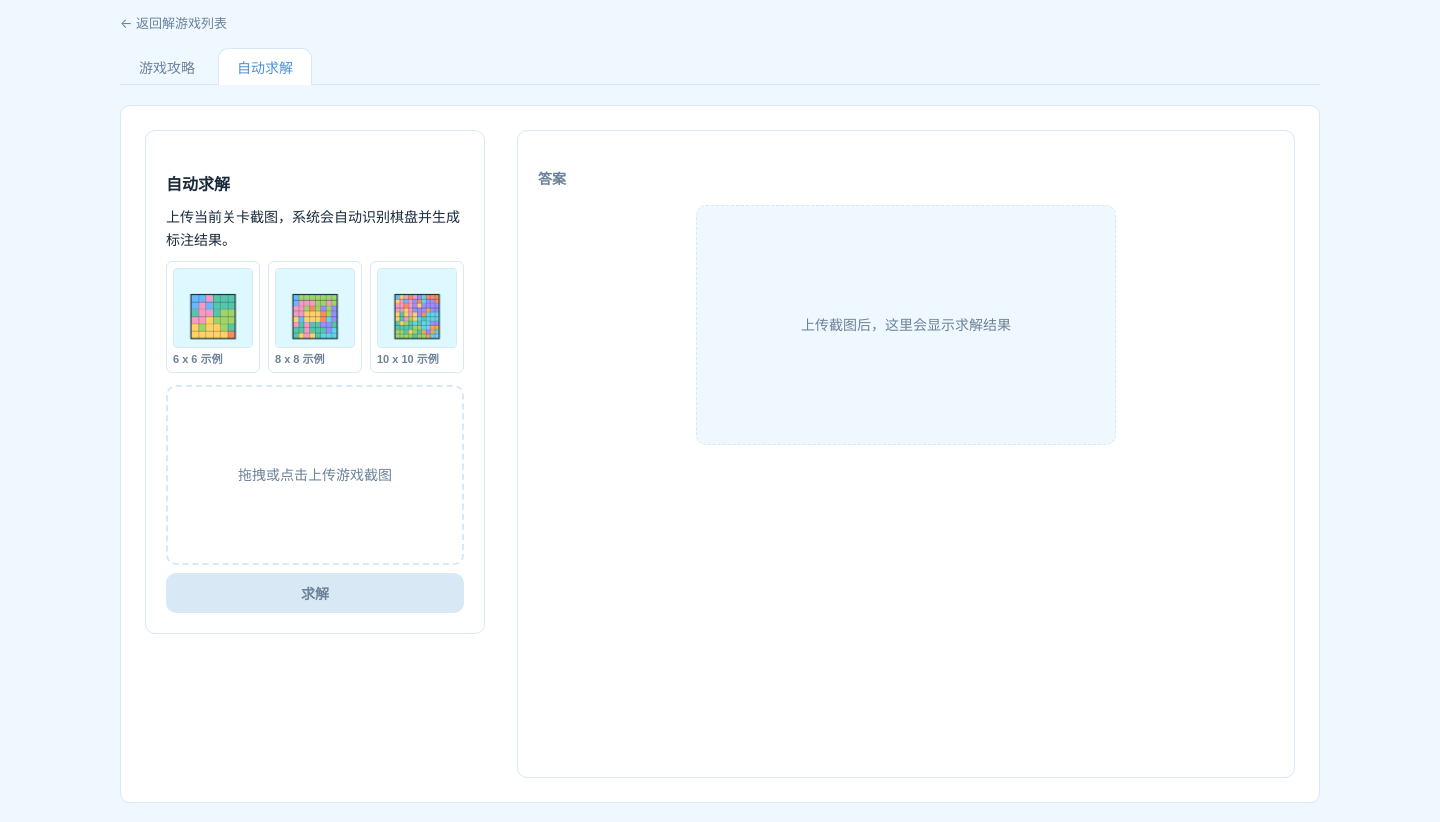
Scenario: SolveDetail › shows timeout errors and restores the solve button
The image size is (1440, 822).
Click the button "6 x 6 示例".
click(213, 317)  # box x1=166 y1=261 x2=260 y2=373
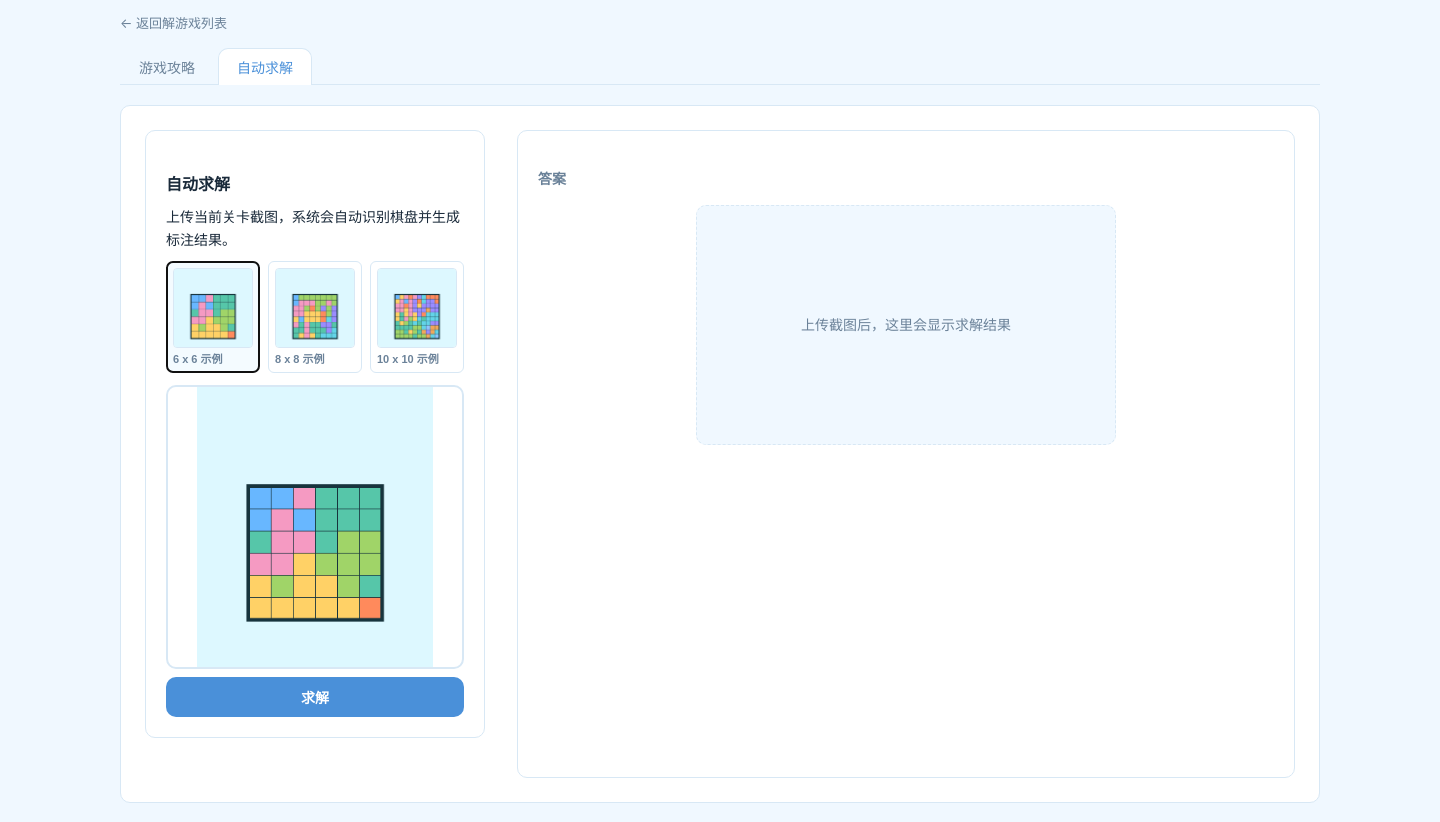
Click the button "求解".
click(315, 697)  # box x1=166 y1=677 x2=464 y2=717
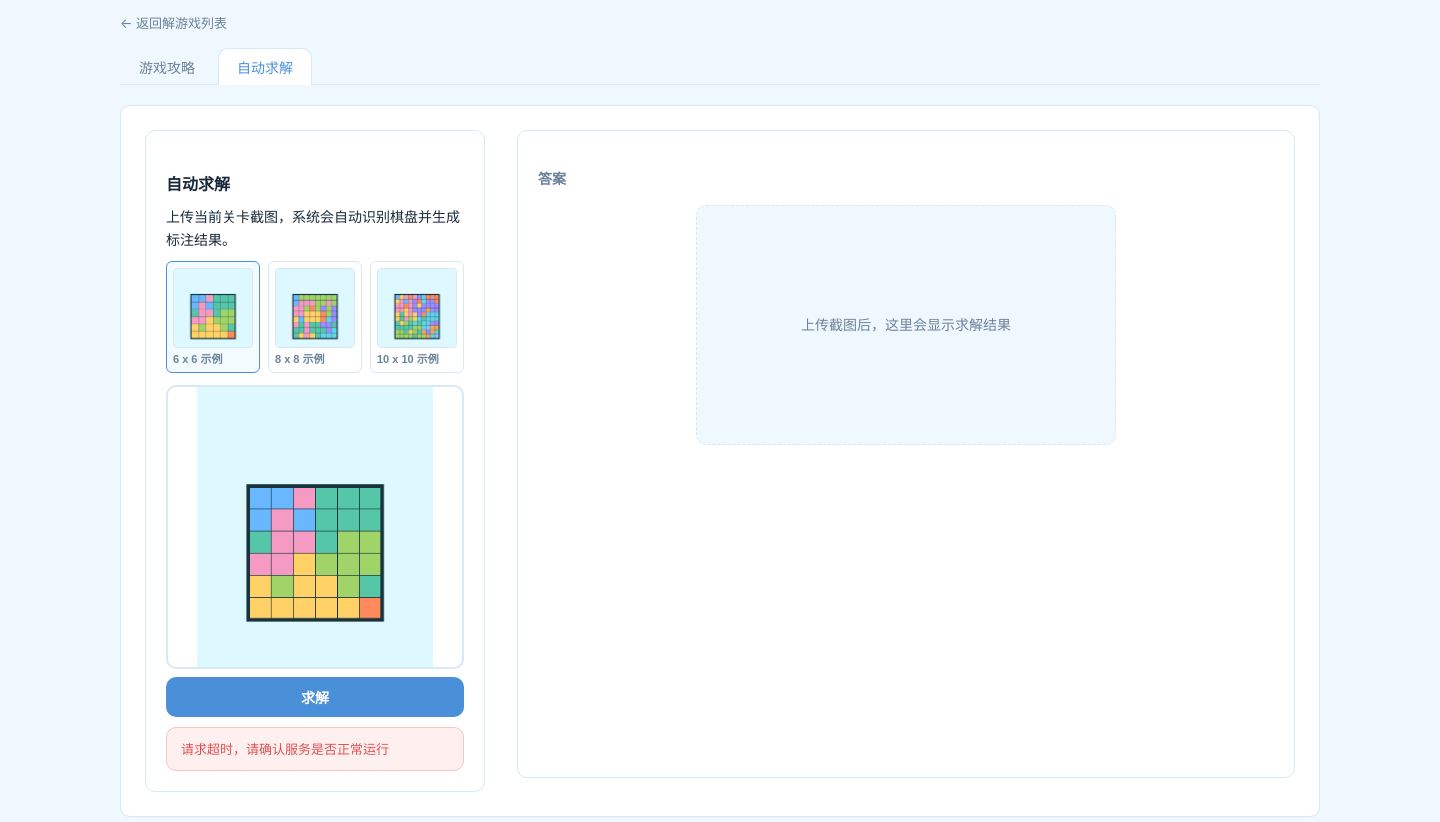
Expected: the button "求解" is enabled, x1=166 y1=677 x2=464 y2=717
Expected: the text "请求超时，请确认服务是否正常运行" is shown, x1=166 y1=727 x2=464 y2=771
